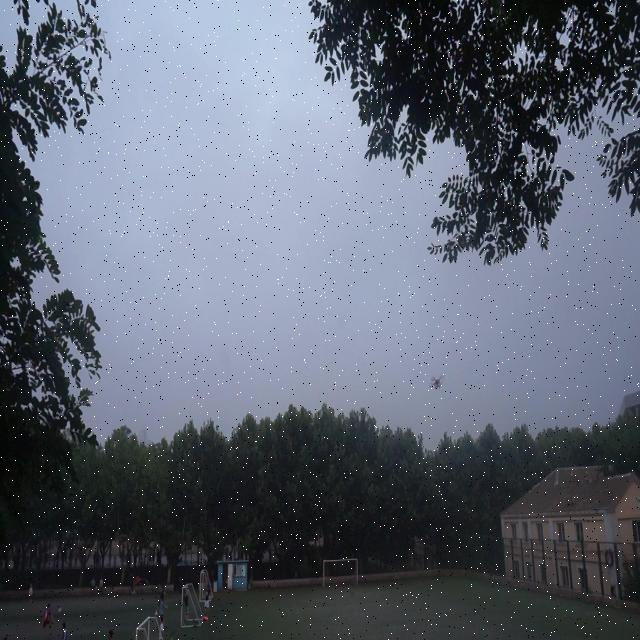UAV: (429, 374, 445, 390)
